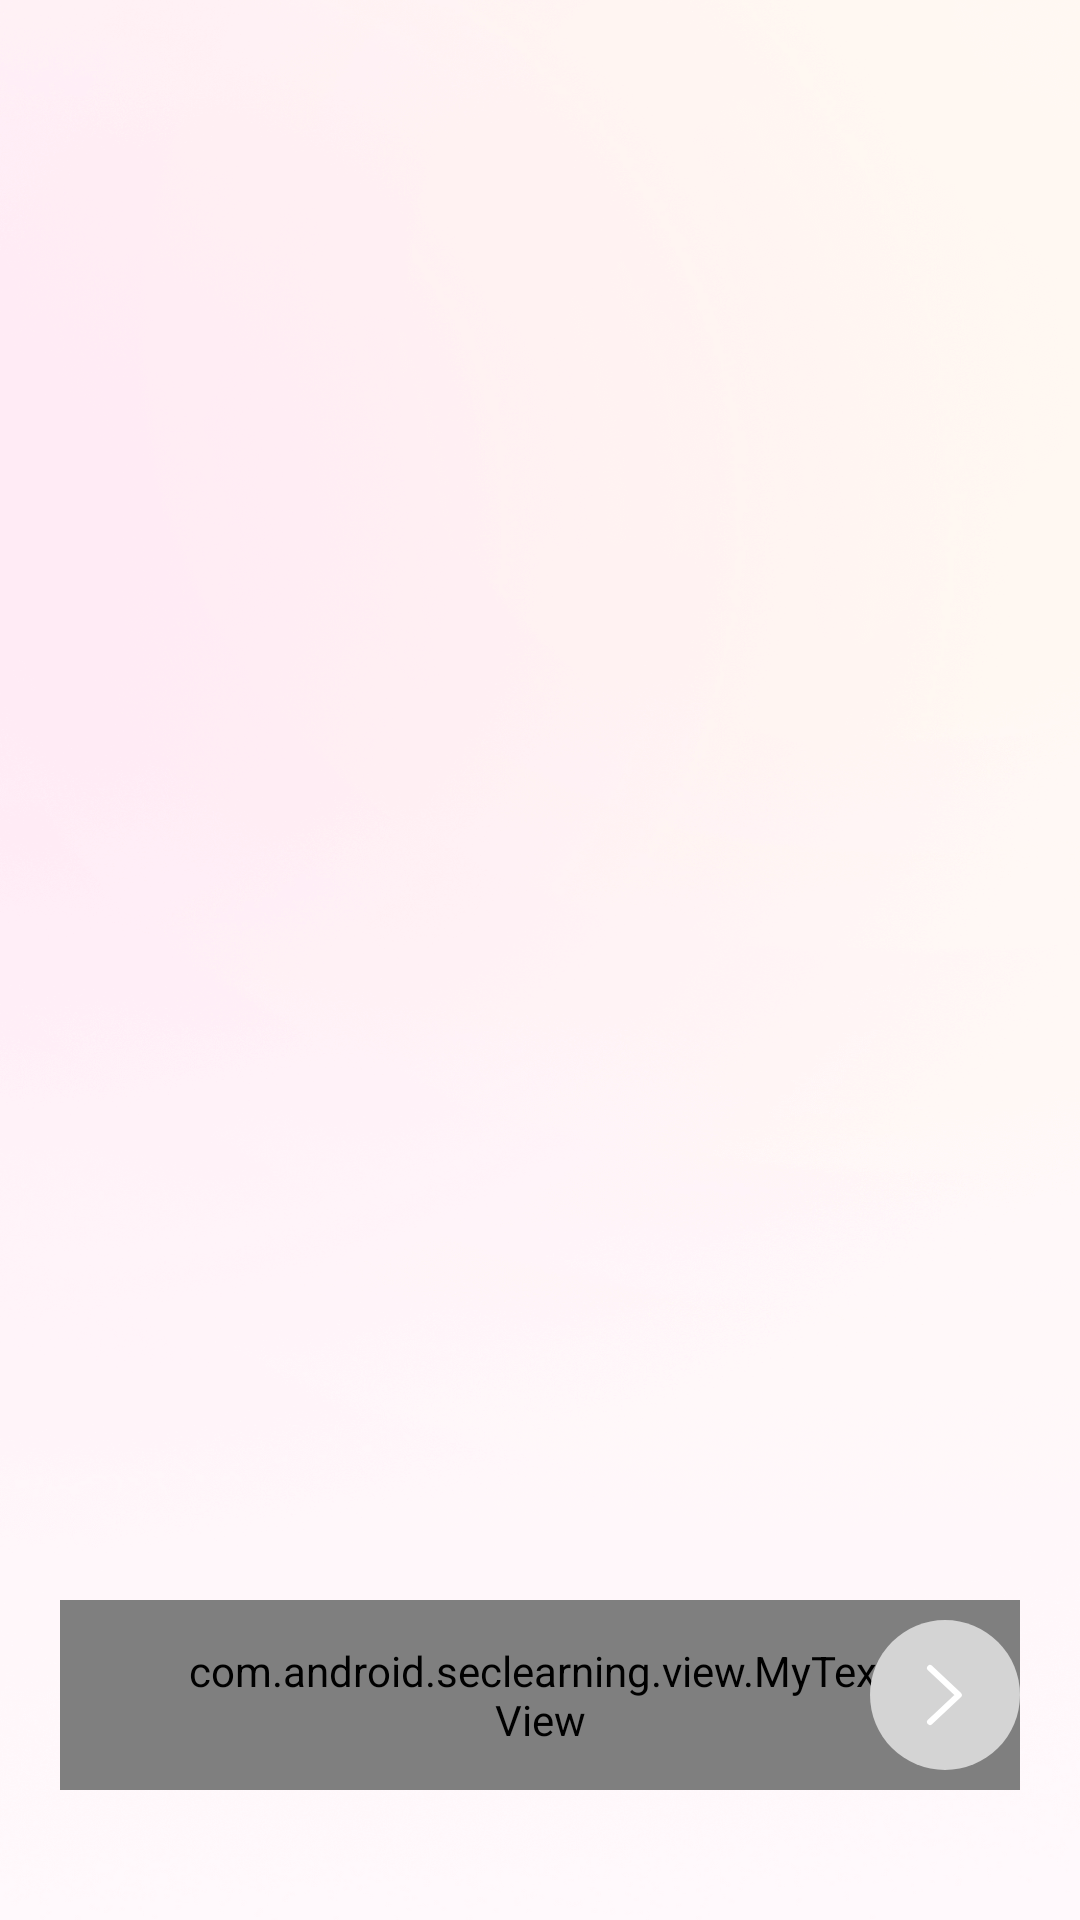

Locate icon controls on the screen. Image size 1080 × 1920, boxes as (x1, y1, x2, y2).
next disable: (870, 1620, 1020, 1770)
